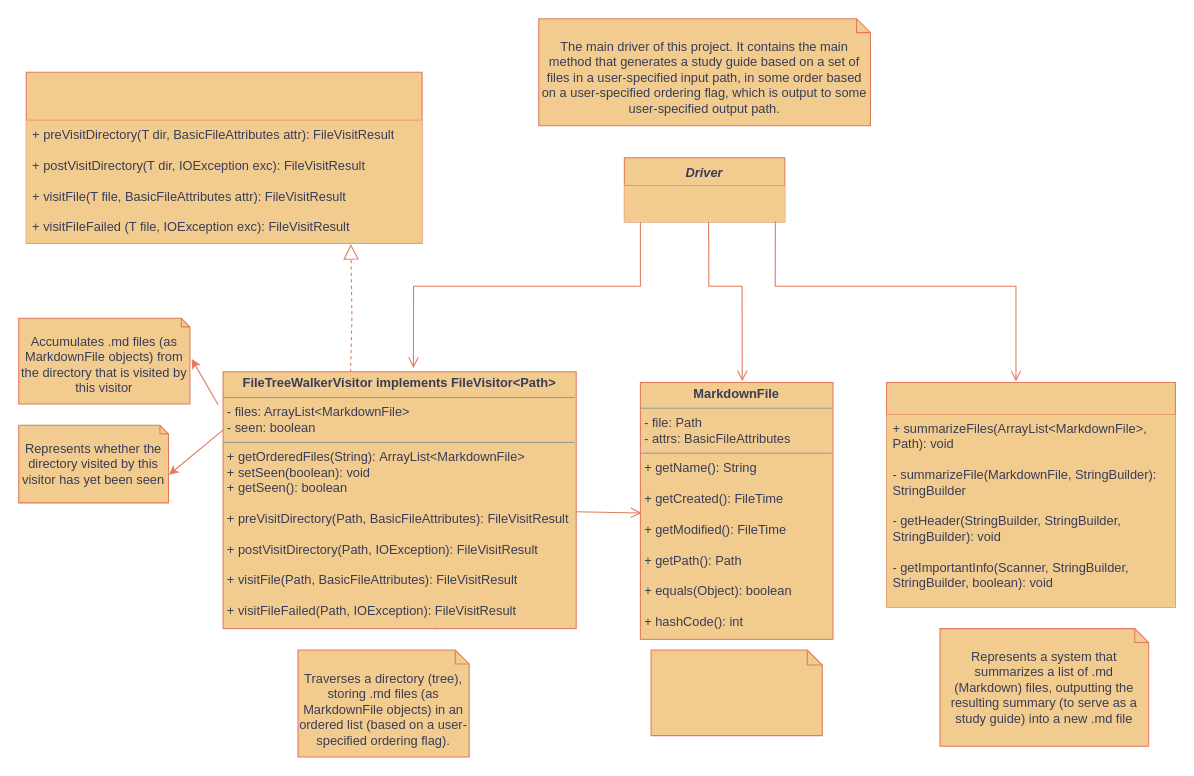
This 1194x776 diagram has some shape labels left out. Here are the shapes that lost their labels. From the top down, the box of each, then its label:
(25, 71, 422, 243): <interface> FileVisitor<T>
(624, 185, 784, 221): + main(String[]): void
(885, 381, 1175, 607): Summarizer
(650, 649, 822, 736): Represents a Markdown (.md) file with a filepath and basic file attributes
